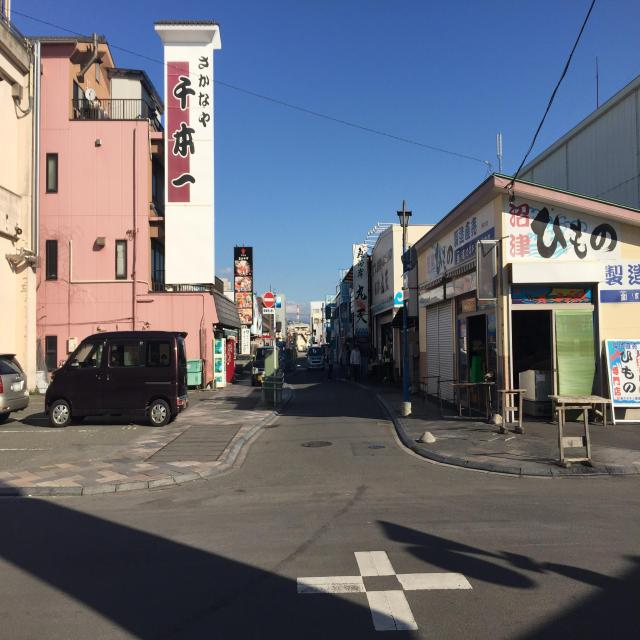Good: (301, 437, 333, 451), (365, 440, 390, 454)
